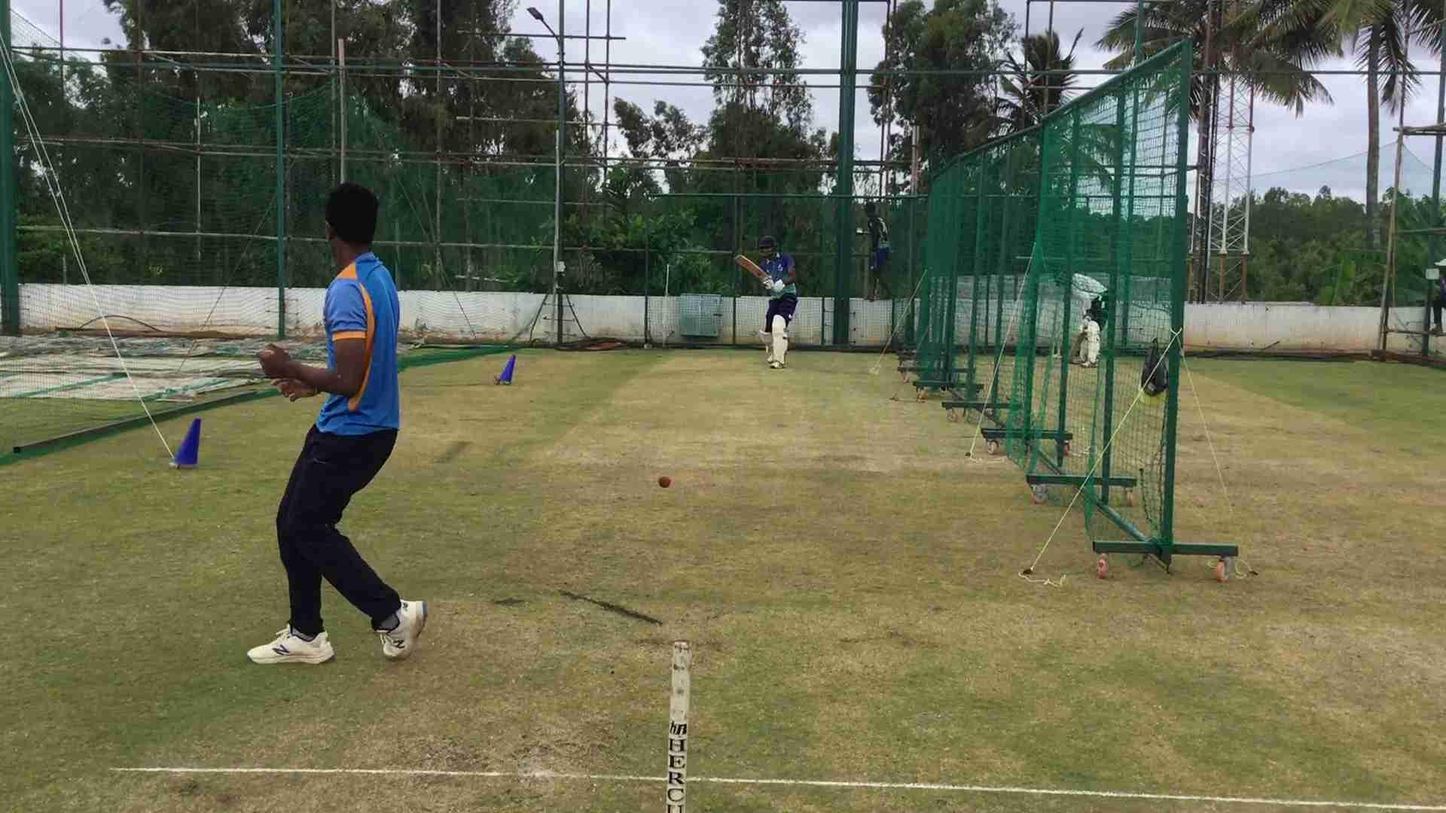batsman: (755, 232, 803, 376)
